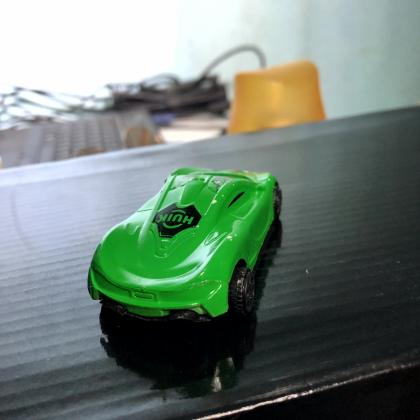Car: (84, 159, 291, 333)
